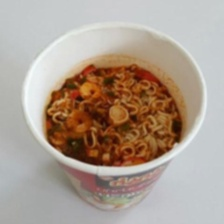paper_cup: (15, 14, 211, 217)
